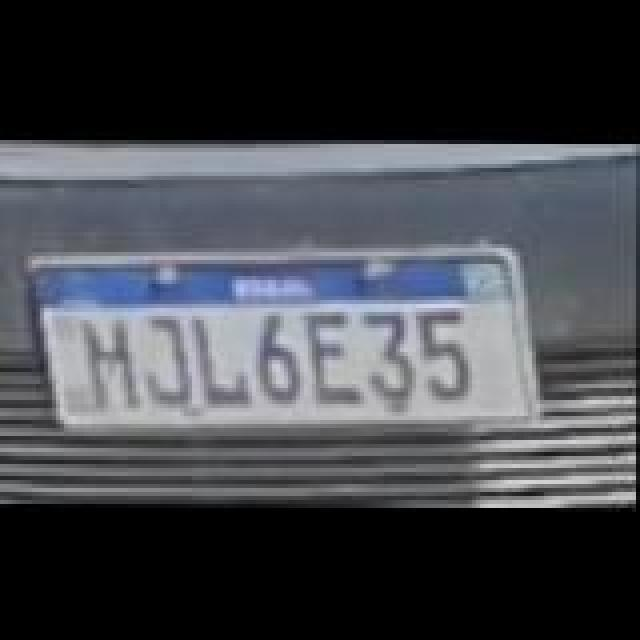3: (358, 306, 422, 402)
5: (414, 302, 478, 398)
6: (250, 306, 306, 402)
E: (306, 304, 370, 404)
J: (140, 314, 200, 410)
L: (192, 312, 252, 404)
M: (78, 312, 142, 408)
